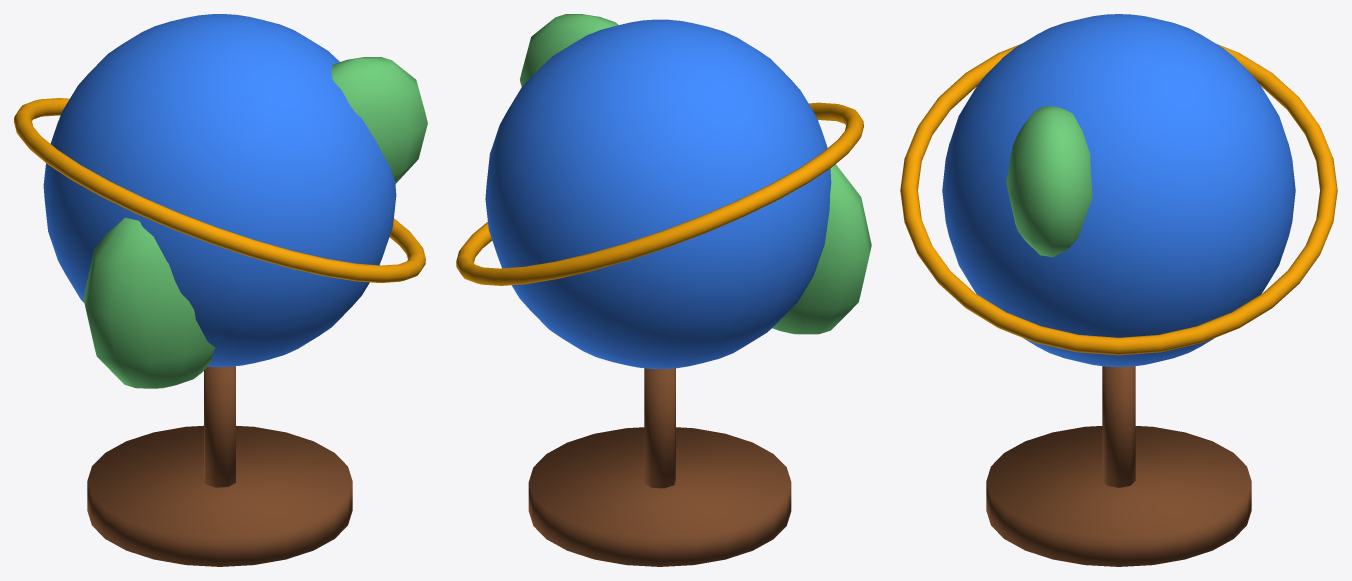
Rendered from globe.glb.
3 views of the same model, side by side, from view 1: azimuth 30°, elevation 25°; view 2: azimuth 150°, elevation 25°; view 3: azimuth 270°, elevation 25° (orthographic).
Parts seen in each view (by area): view 1: globe; view 2: globe; view 3: globe.
Part boxes in pixels (x1,y1,x2,y2): globe: (14,14,427,566); globe: (456,14,871,566); globe: (900,14,1337,566).
Bounding box in the file's own units: 0.3654 × 0.48 × 0.396.
